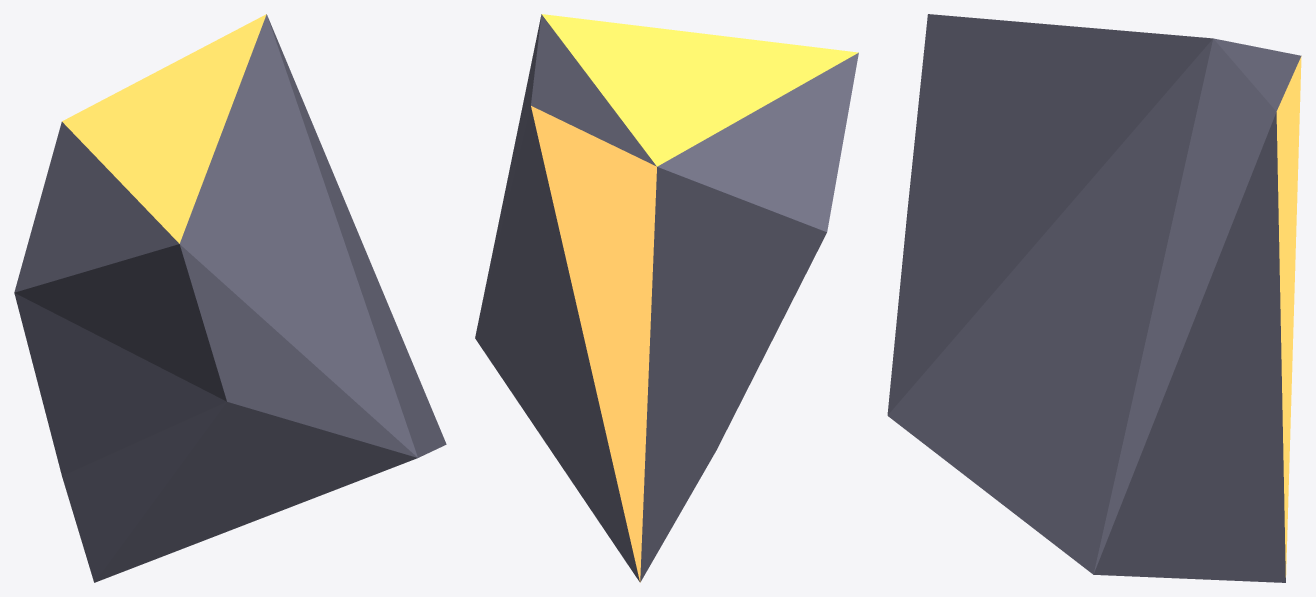
File: debris.glb
3 renders of one model, left to right at view 1: azimuth 30°, elevation 25°; view 2: azimuth 150°, elevation 25°; view 3: azimuth 270°, elevation 25°, orthographic. The views are drawn at different scales.
Visible parts, largest first — view 1: debris; view 2: debris; view 3: debris.
Part boxes in pixels (x1,y1,x2,y2): debris: (14, 14, 446, 582); debris: (475, 14, 858, 582); debris: (887, 14, 1301, 582).
Bounding box in the file's own units: 1.38 × 1.81 × 1.1.
